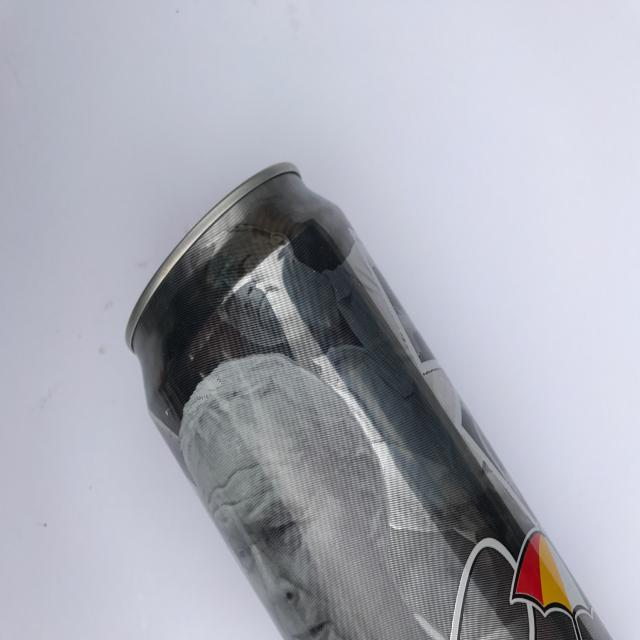metal: (126, 162, 614, 640)
